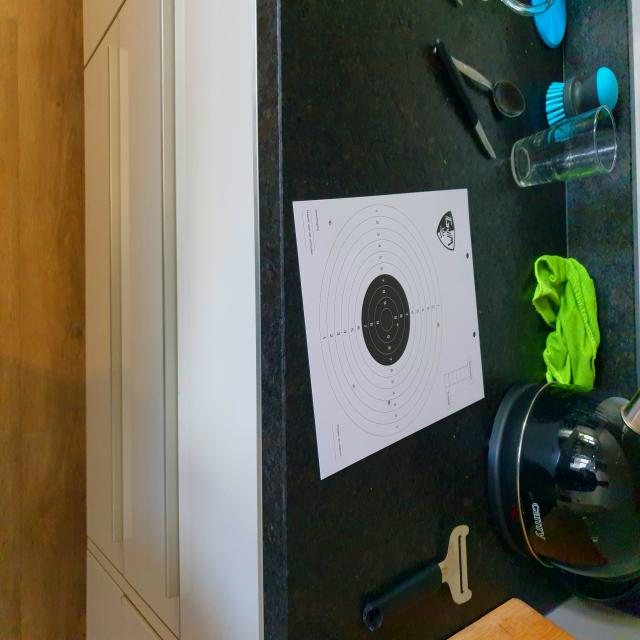0: (329, 220, 332, 226)
1: (437, 322, 439, 328)
3: (352, 384, 355, 389), (388, 400, 390, 406)
9: (397, 322, 399, 328)
Target: (318, 204, 442, 438)
black_contour: (361, 275, 410, 366)
